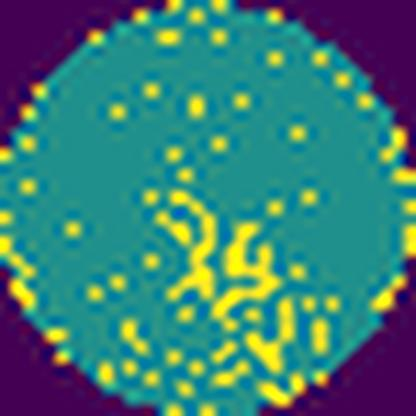Loc: (212, 217, 284, 325), (168, 189, 218, 306), (242, 298, 301, 372)
